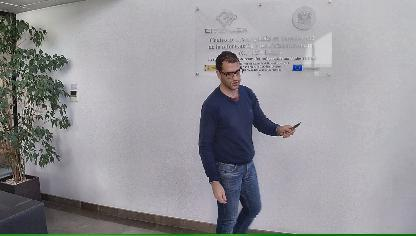knife: (282, 118, 302, 138)
